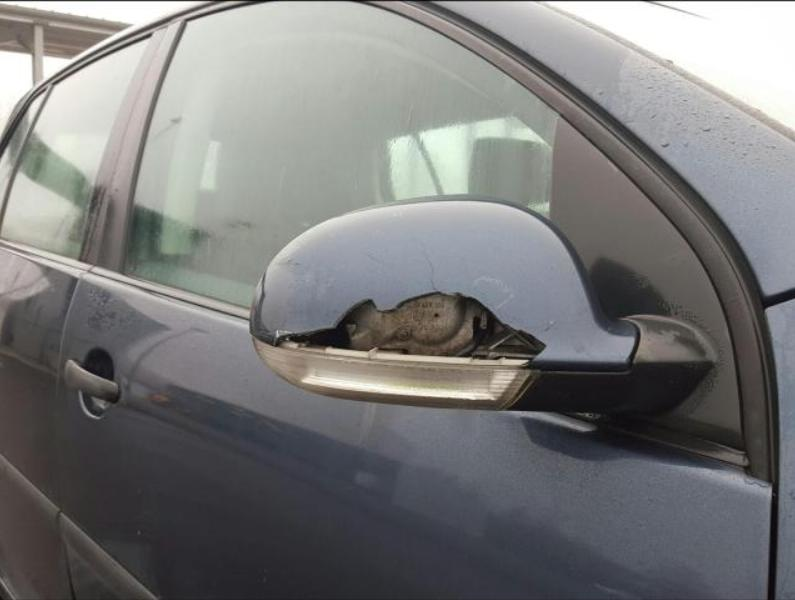Back-door: (2, 28, 160, 599)
Back-window: (1, 32, 148, 256), (0, 95, 43, 219)
Fender: (764, 301, 794, 599)
Front-door: (60, 0, 771, 596)
Front-window: (124, 0, 558, 308)
Mirror: (251, 200, 713, 416)
Windshield: (545, 0, 794, 133)
